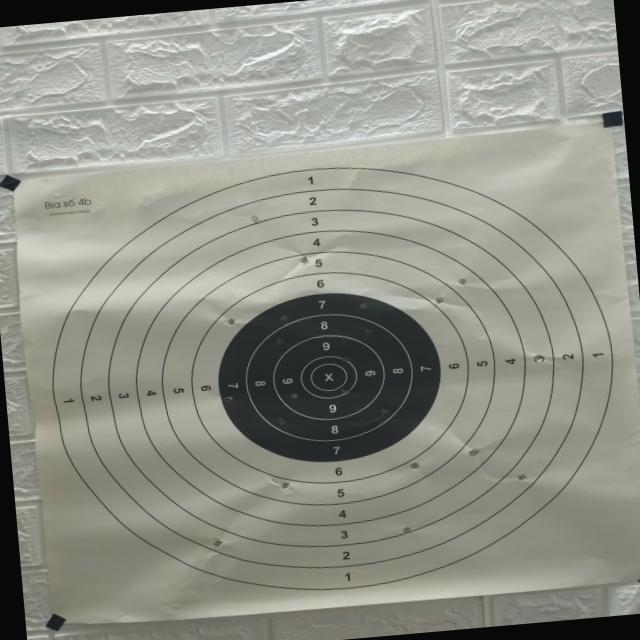bullet: (533, 354, 544, 362), (213, 539, 223, 547), (468, 449, 479, 456), (277, 416, 286, 424), (279, 314, 289, 321), (457, 278, 466, 285), (358, 301, 367, 308), (402, 526, 411, 533), (251, 214, 258, 222), (300, 256, 308, 263), (227, 318, 235, 325), (275, 337, 283, 344), (363, 327, 371, 334), (290, 392, 298, 399), (281, 482, 289, 489), (410, 462, 419, 468), (517, 474, 526, 480), (435, 297, 443, 303), (340, 388, 348, 394), (380, 408, 388, 414), (223, 396, 232, 401), (343, 356, 349, 361)
target: (15, 126, 640, 623)
